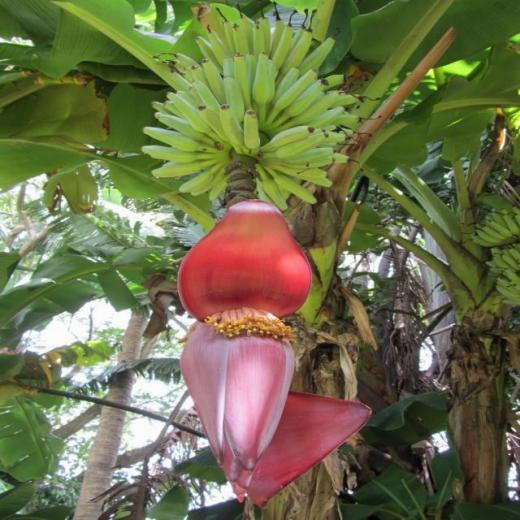Banana: (138, 0, 384, 211), (456, 208, 520, 314)
